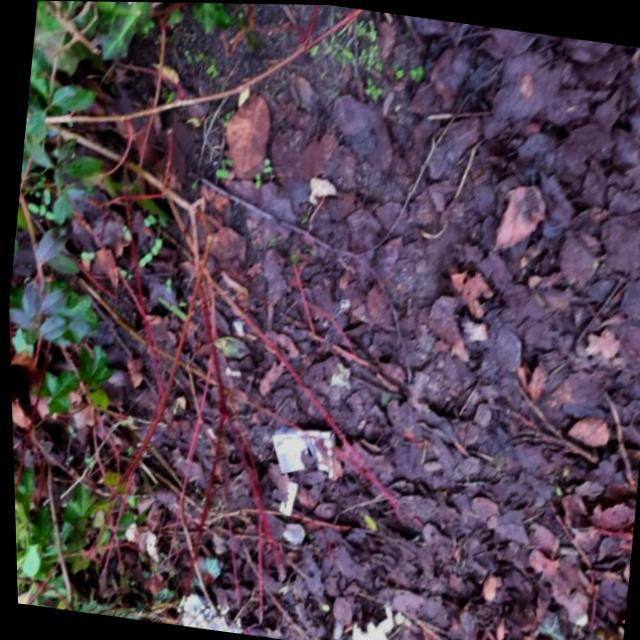Paper: (260, 417, 339, 482)
